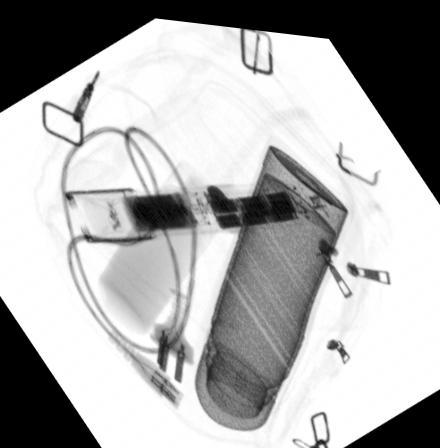Baton: (62, 171, 316, 243)
